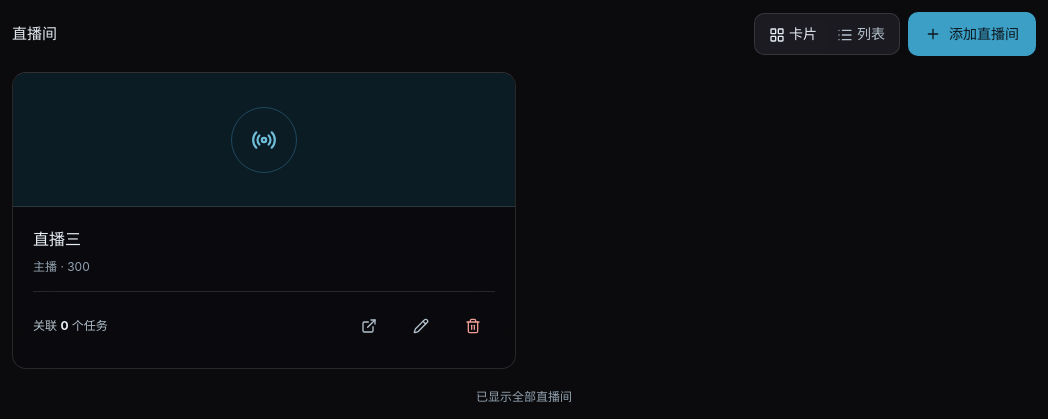
opens rooms in the system browser in both views and reports failures safely
Step 1. Click the link named "打开直播间 300" → (369, 326), box [361,318,377,334]
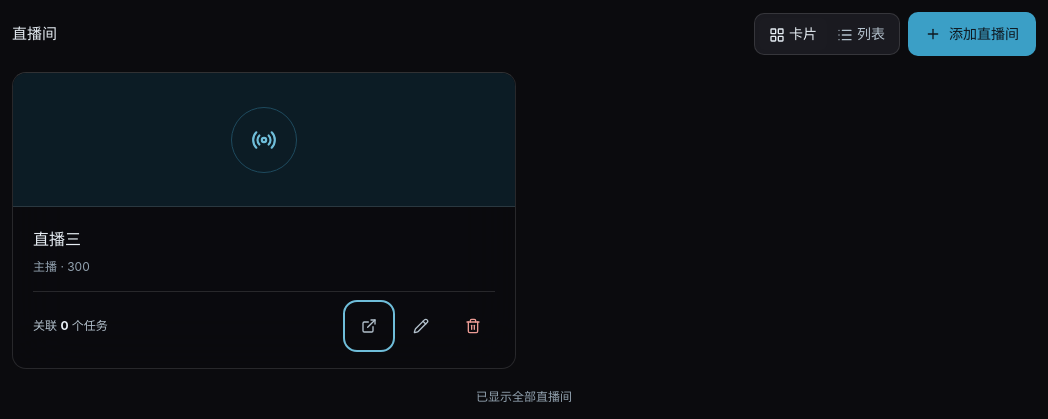
Step 2. Click the button "列表" → (861, 34), box [827,18,895,50]
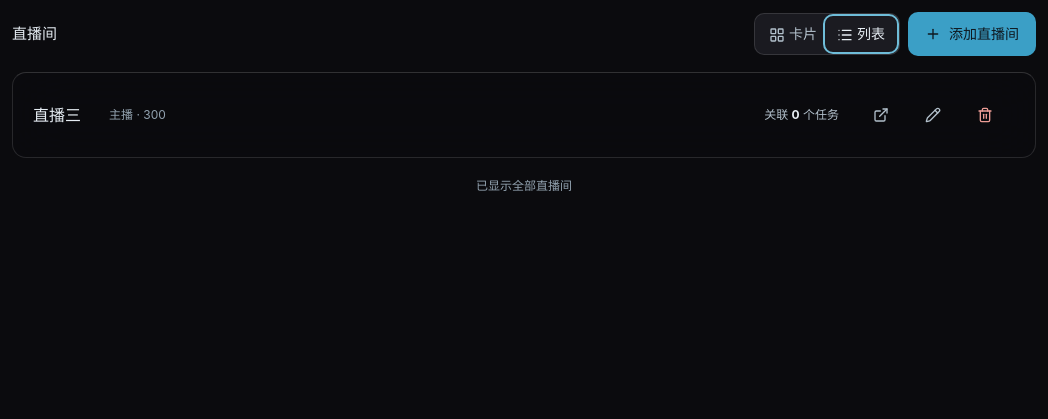
Step 3. Click the link named "打开直播间 300" → (881, 115), box [873,107,889,123]
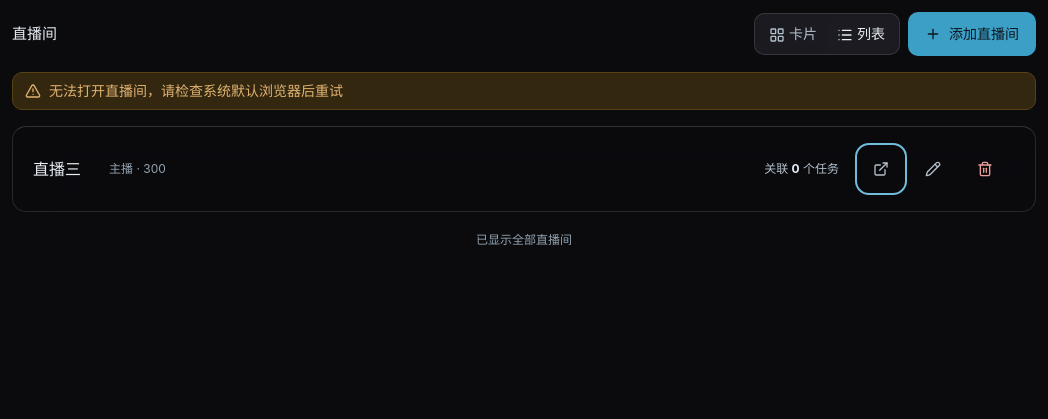
Now the message reads "无法打开直播间，请检查系统默认浏览器后重试", box [49,82,343,99]
Step 4. Click the link named "打开直播间 300" → (881, 169), box [873,161,889,177]
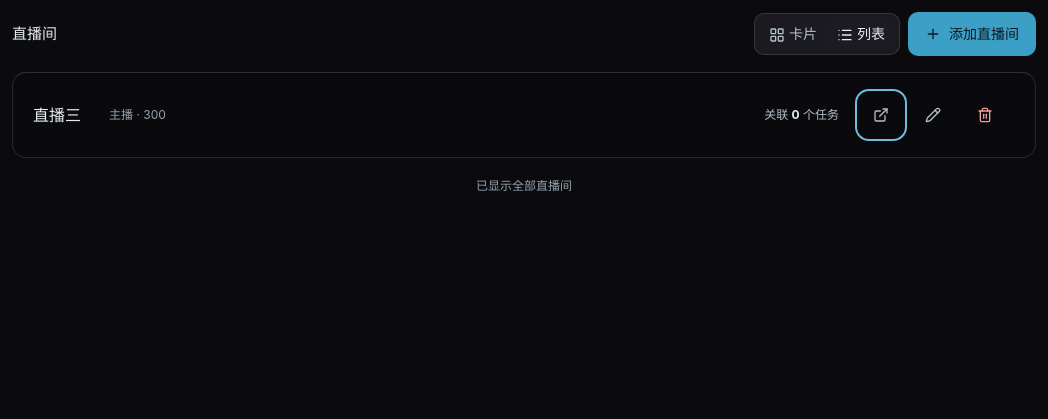
Now the message "无法打开直播间，请检查系统默认浏览器后重试" is gone
